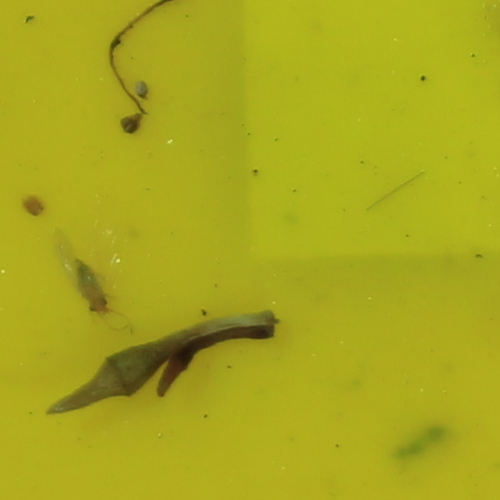psylla: (72, 251, 118, 316)
